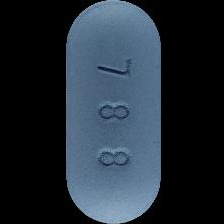50111-788: (0, 0, 224, 224)
